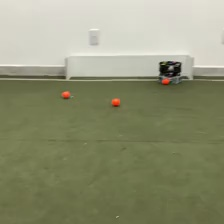ball: (110, 96, 121, 106), (61, 89, 71, 99), (160, 77, 171, 86)
goal: (63, 52, 196, 83)
robot: (158, 59, 182, 84)
